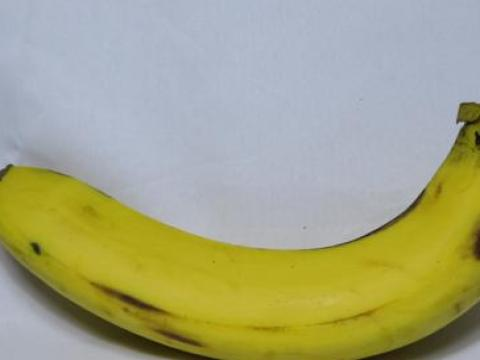freshripe: (0, 92, 479, 359)
